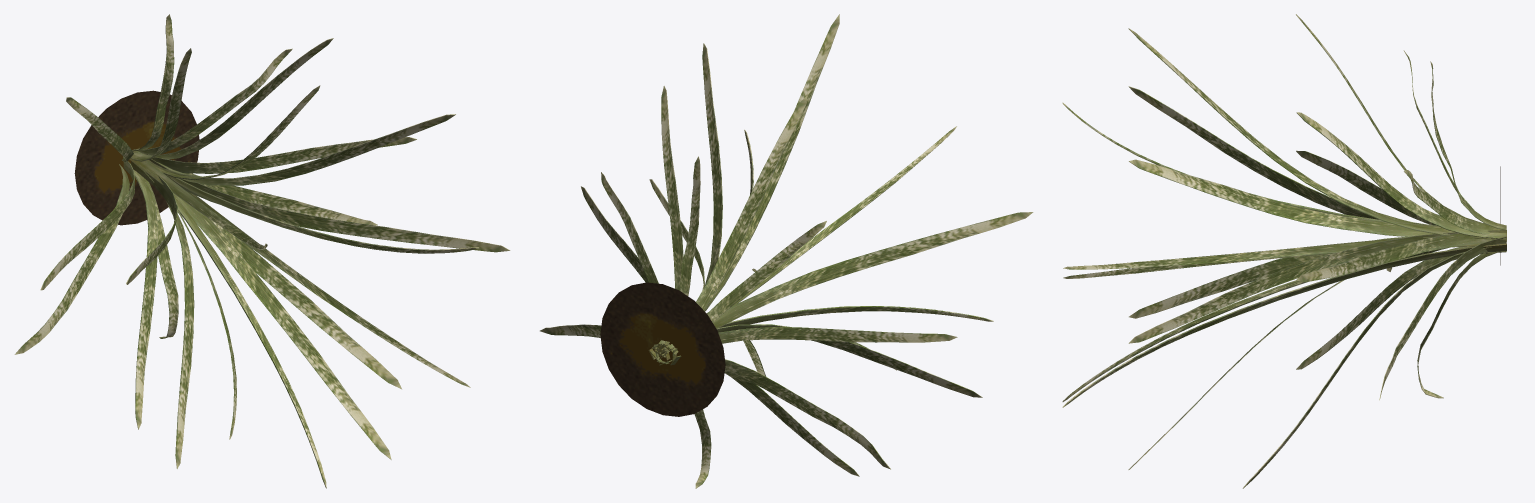
Rendered from MeshHouseplant_28_0_GeomSubset_2.obj.
The picture shows the model from 3 angles, left to right: view 1: azimuth 30°, elevation 25°; view 2: azimuth 150°, elevation 25°; view 3: azimuth 270°, elevation 25°; orthographic projection. The views are drawn at different scales.
Visible parts, largest first — view 1: MeshHouseplant_28_0_GeomSubset_2; view 2: MeshHouseplant_28_0_GeomSubset_2; view 3: MeshHouseplant_28_0_GeomSubset_2.
Boxes of the visible parts, x1,y1,x2,y2 form: MeshHouseplant_28_0_GeomSubset_2: (14,14,510,488); MeshHouseplant_28_0_GeomSubset_2: (540,14,1033,488); MeshHouseplant_28_0_GeomSubset_2: (1062,14,1506,488).
Bounding box in the file's own units: 0.5002 × 0.4815 × 0.4919.
